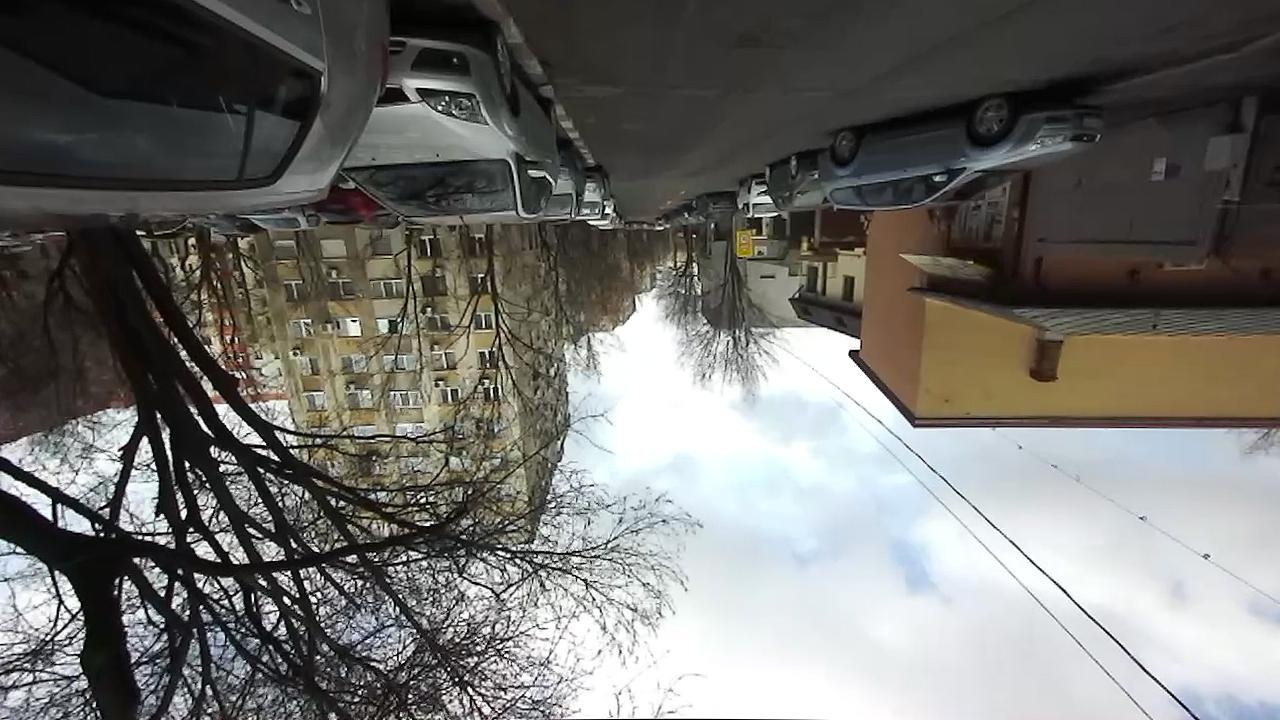pothole: (727, 24, 792, 57)
